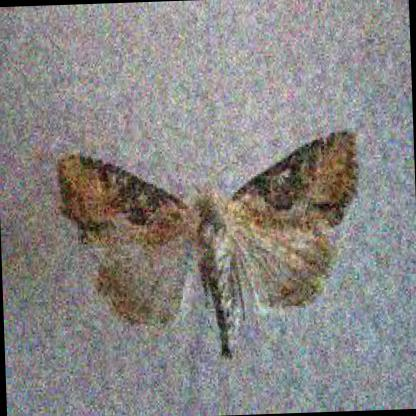Leaf Webber: (54, 129, 364, 364)
